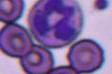N: (28, 0, 82, 48)
